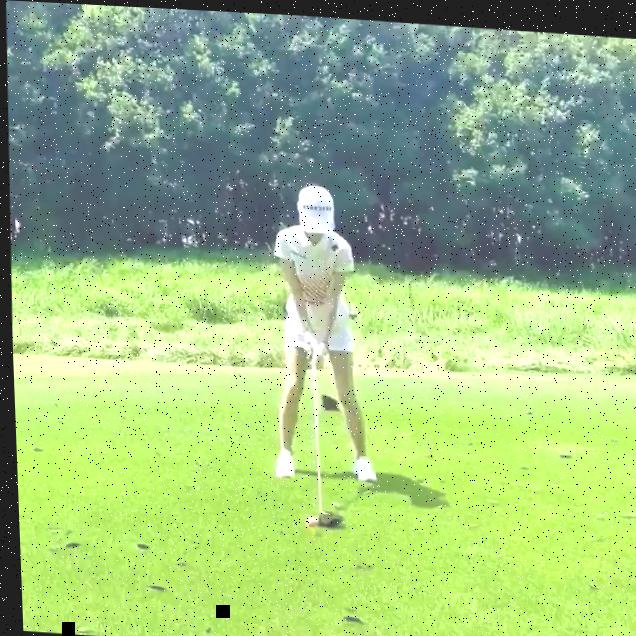ClubHead: (314, 507, 342, 523)
GolfBall: (300, 513, 311, 522)
